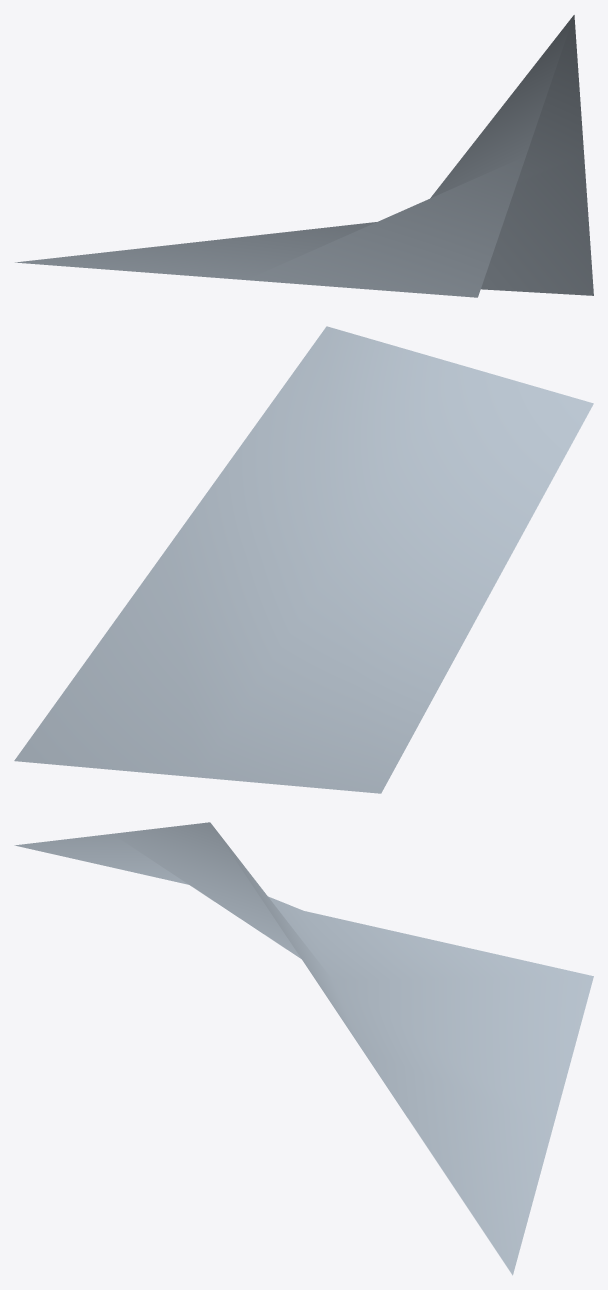
Rendered from calcaneonavicular-ligament-r.glb.
The picture shows the model from 3 angles, top to bottom: view 1: azimuth 30°, elevation 25°; view 2: azimuth 150°, elevation 25°; view 3: azimuth 270°, elevation 25°; orthographic projection. The views are drawn at different scales.
Visible parts, largest first — view 1: Calcaneonavicular ligament.r; view 2: Calcaneonavicular ligament.r; view 3: Calcaneonavicular ligament.r.
Boxes of the visible parts, x1,y1,x2,y2 form: Calcaneonavicular ligament.r: (15,15,593,297); Calcaneonavicular ligament.r: (14,326,593,793); Calcaneonavicular ligament.r: (14,822,593,1275).
Bounding box in the file's own units: 0.0096 × 0.00825 × 0.0116.
